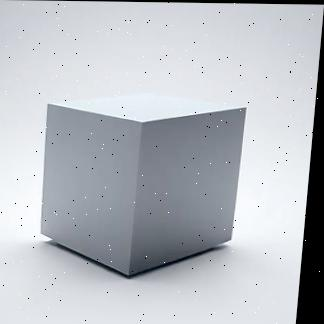cube: (38, 94, 249, 276)
